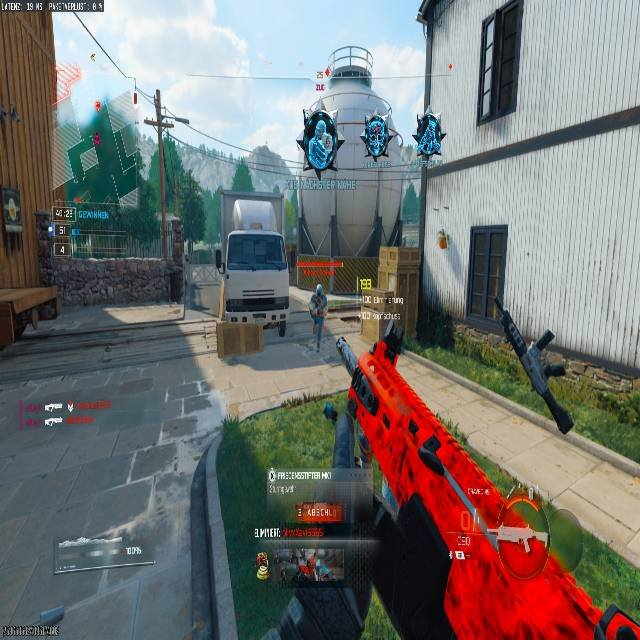head: (315, 284, 323, 294)
player: (496, 324, 573, 434), (376, 292, 406, 363), (412, 108, 445, 166), (360, 114, 393, 161), (309, 284, 328, 344)
